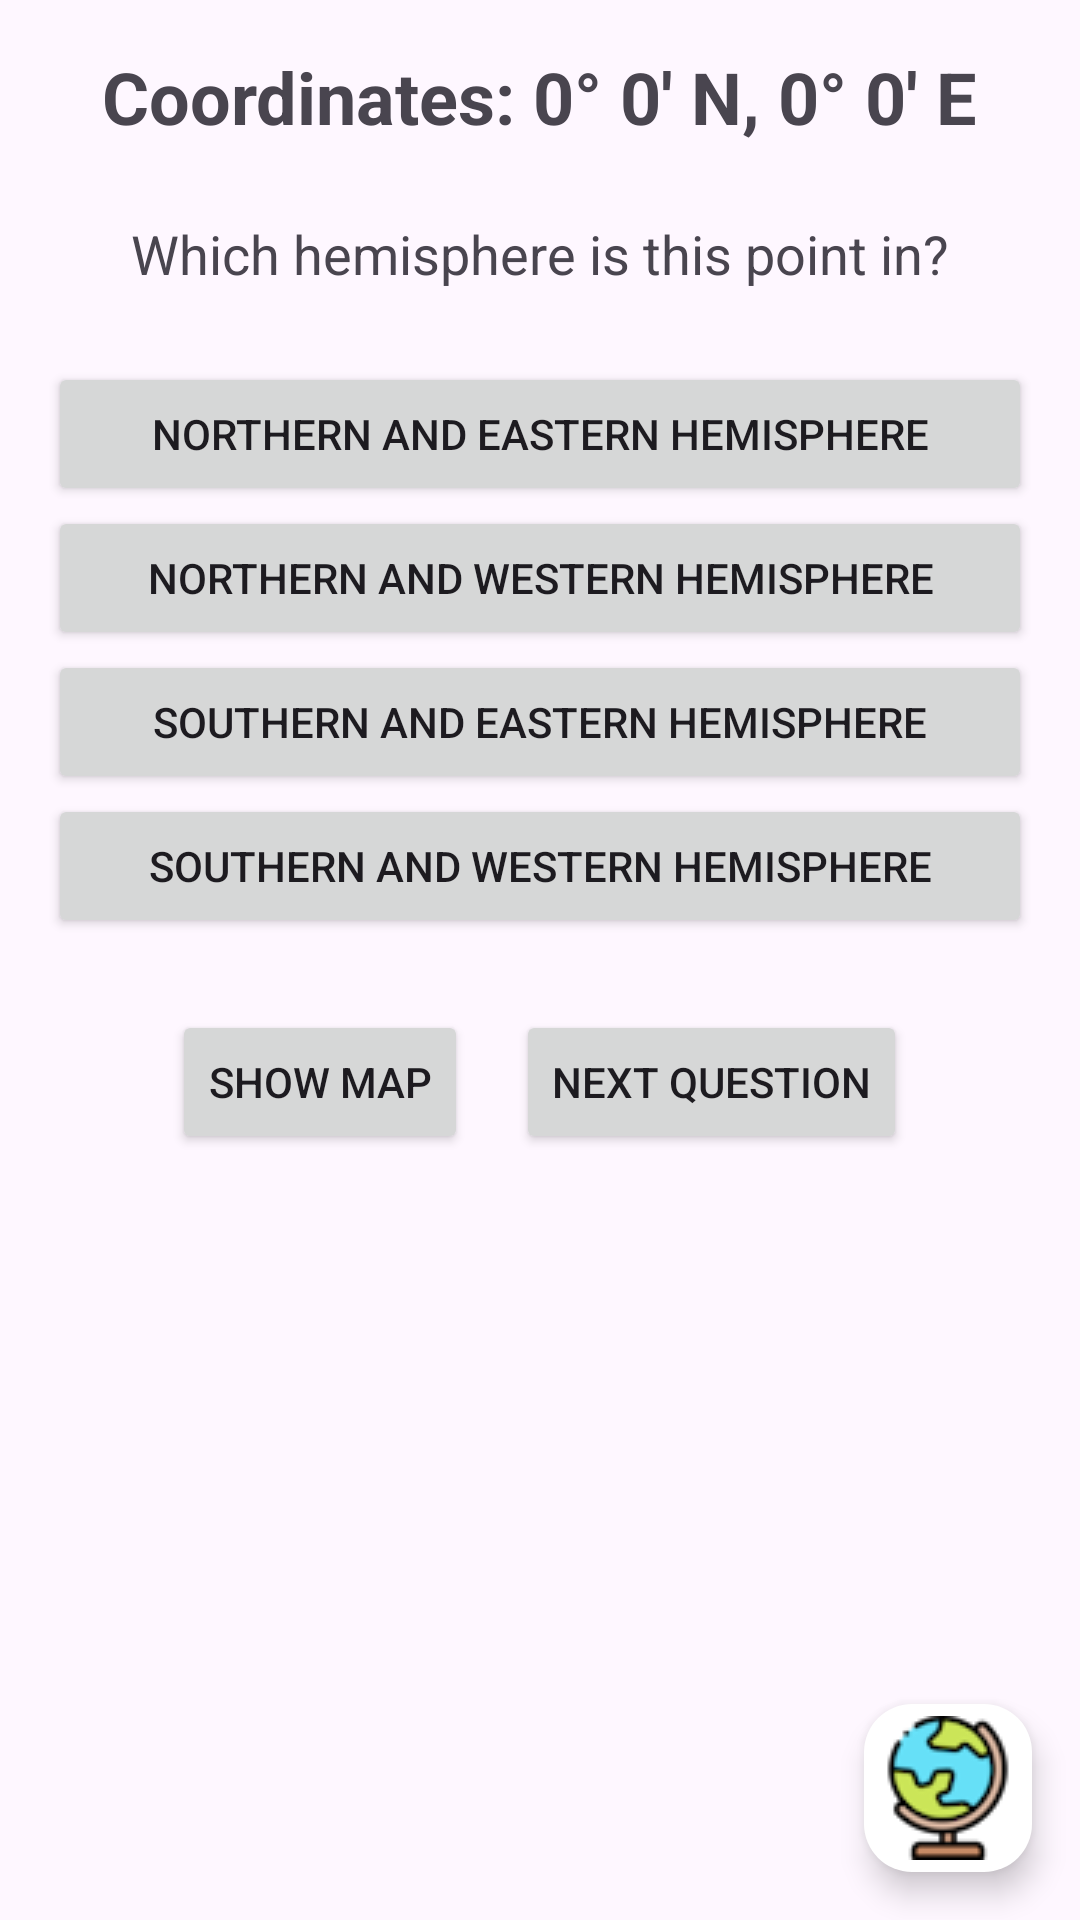

Named icons in this screenshot (1080x1920) and their centers, point (x, y):
globus: point (948, 1788)
